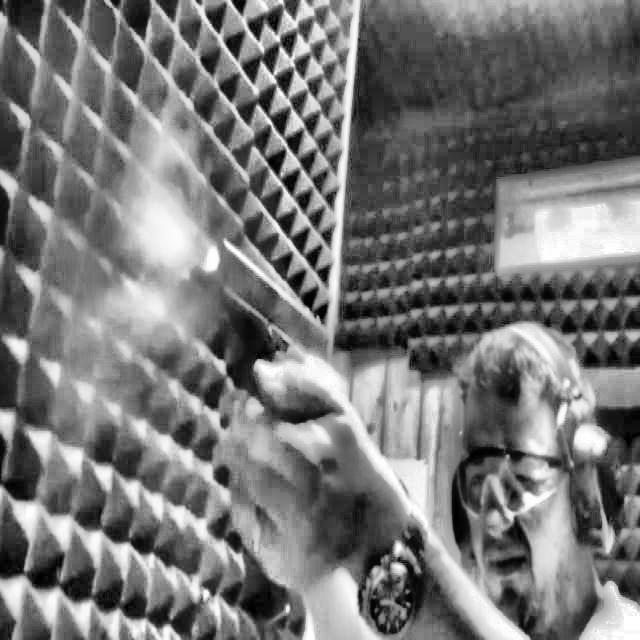pistol: (82, 100, 346, 415)
